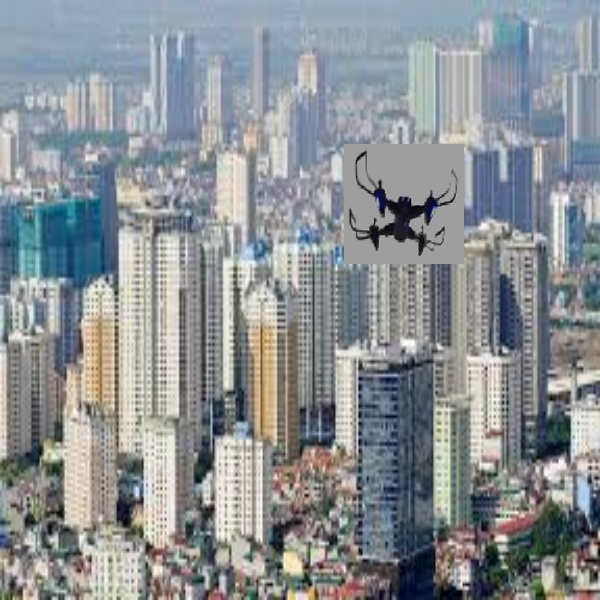drone: (339, 144, 465, 264)
